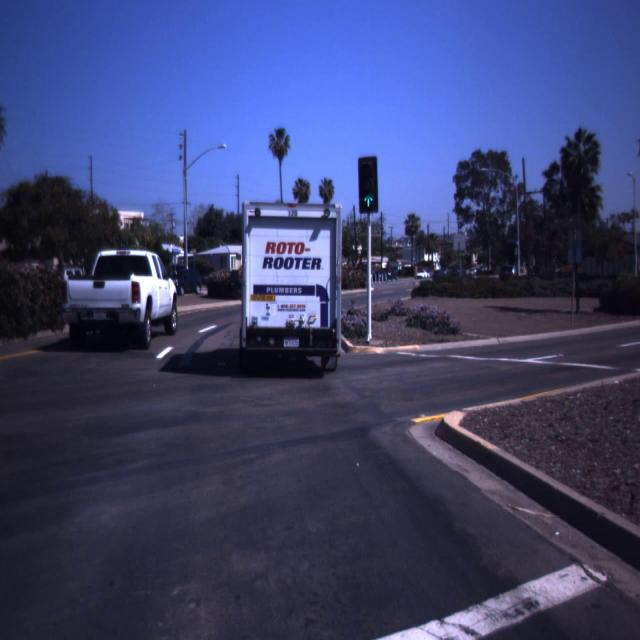yesil: (358, 156, 378, 214)
